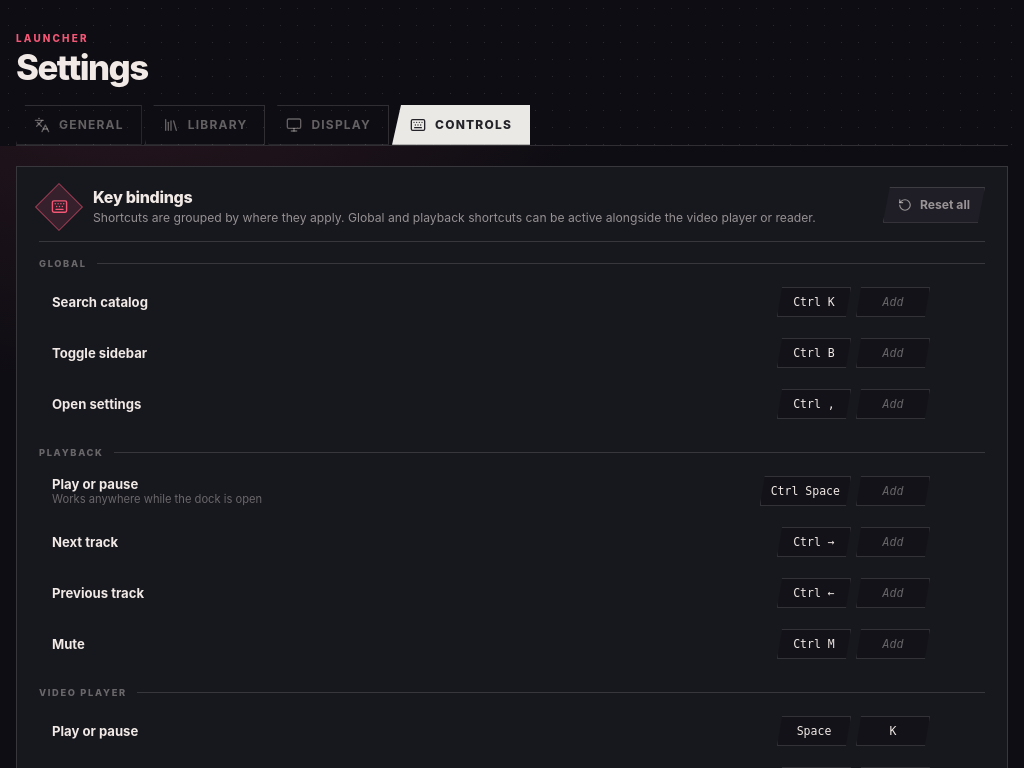
Test case: SettingsPage › rebinds a shortcut from a captured key press
Click the button "Ctrl B".
click(814, 353)  # box left=777, top=338, right=851, bottom=368
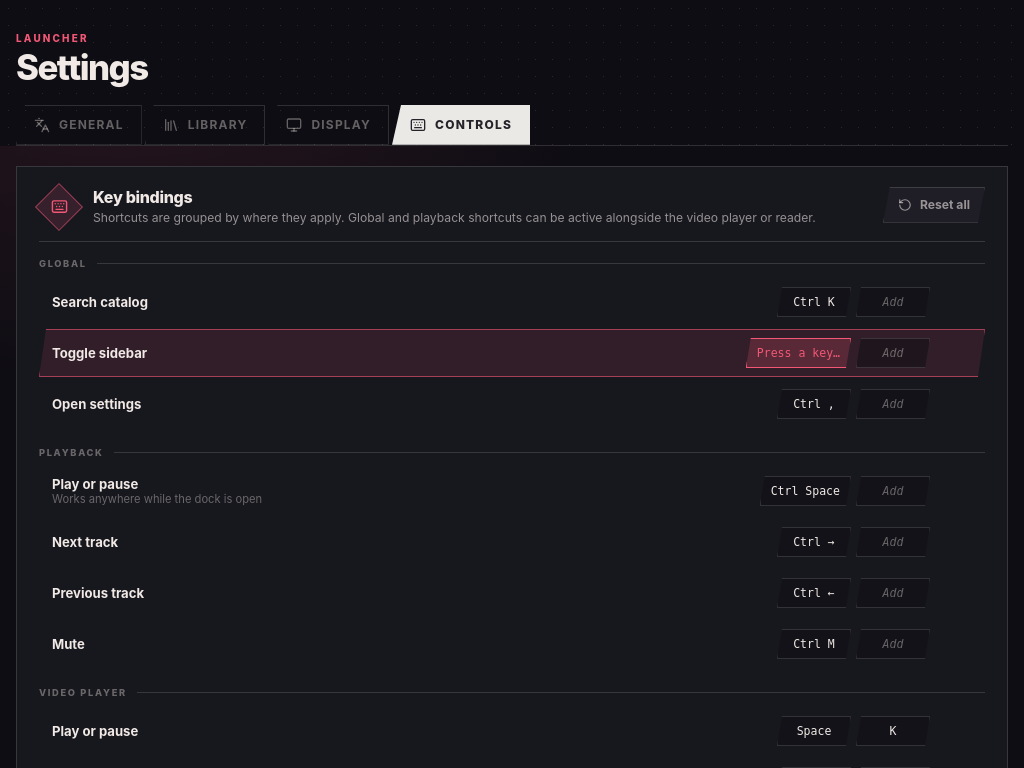
Expected: the button "Press a key…" is shown, left=746, top=338, right=851, bottom=368
Press d
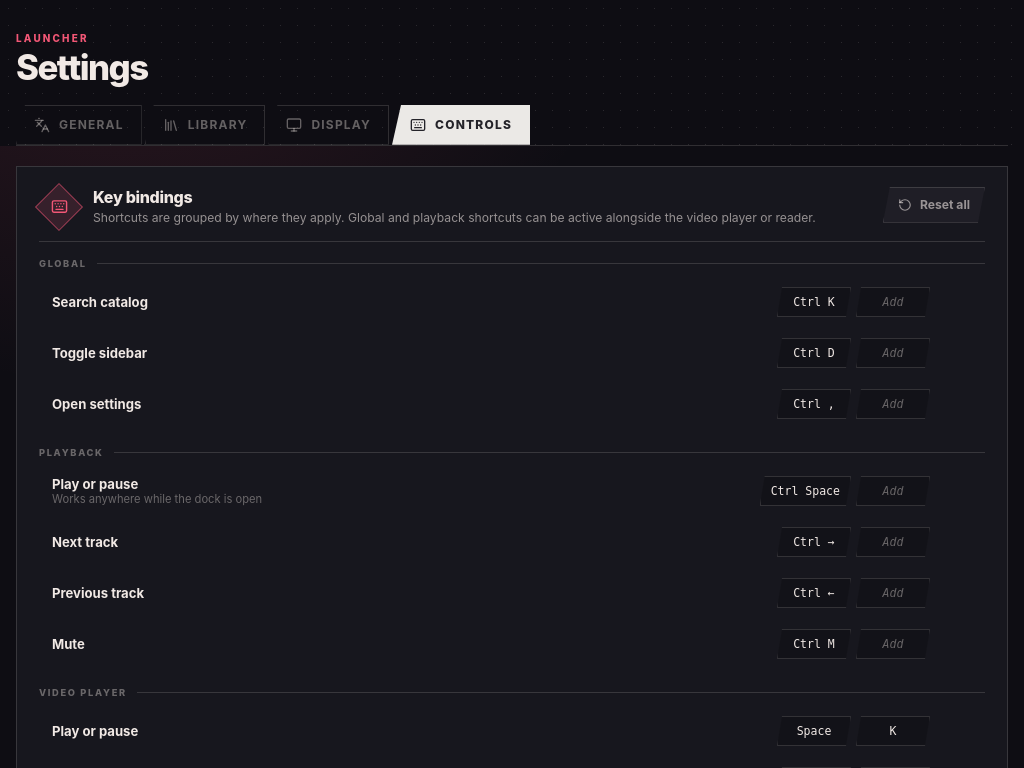
Expected: the button "Ctrl D" is shown, left=777, top=338, right=851, bottom=368
